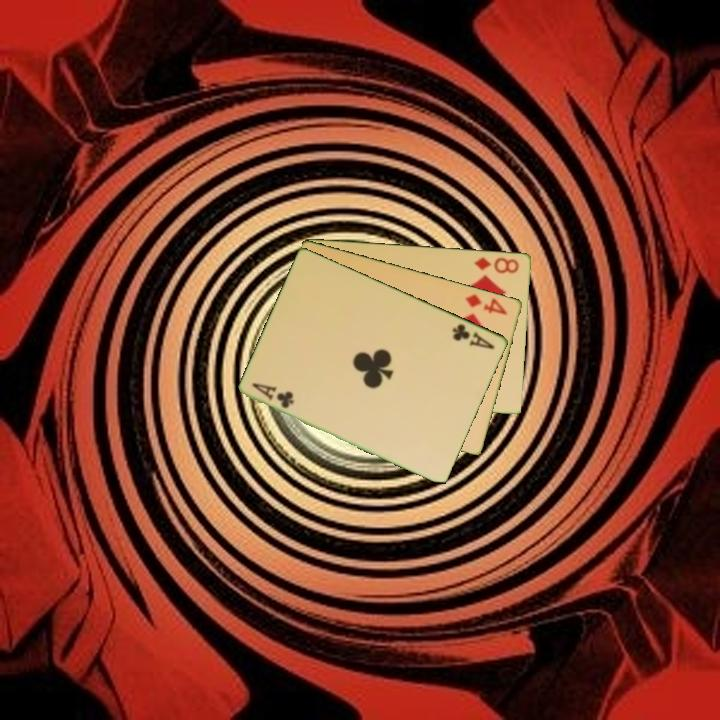4d: (461, 290, 510, 318)
8d: (471, 253, 522, 276)
Ac: (449, 320, 498, 352), (248, 379, 297, 411)
